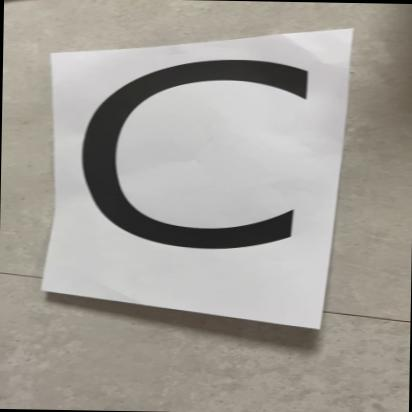seat: (62, 43, 358, 306)
